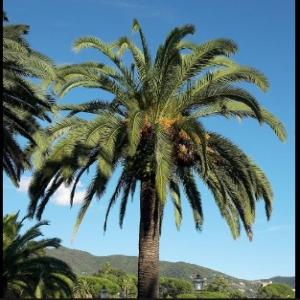palm tree: (25, 17, 287, 298)
